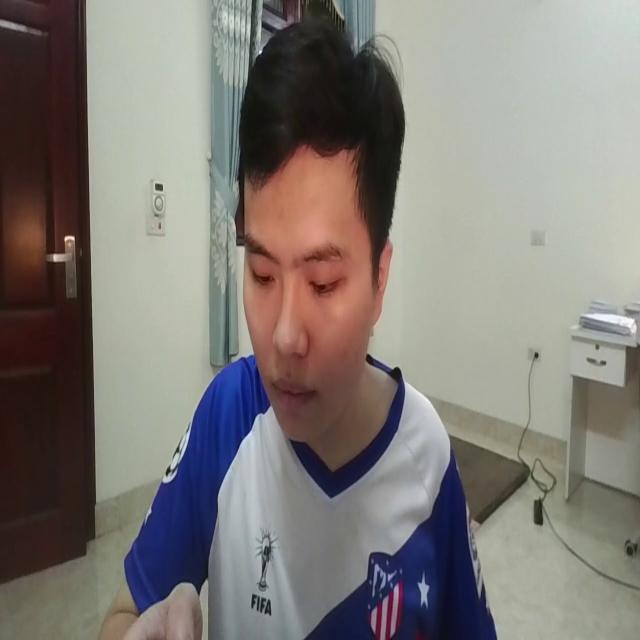student: (93, 12, 504, 640)
